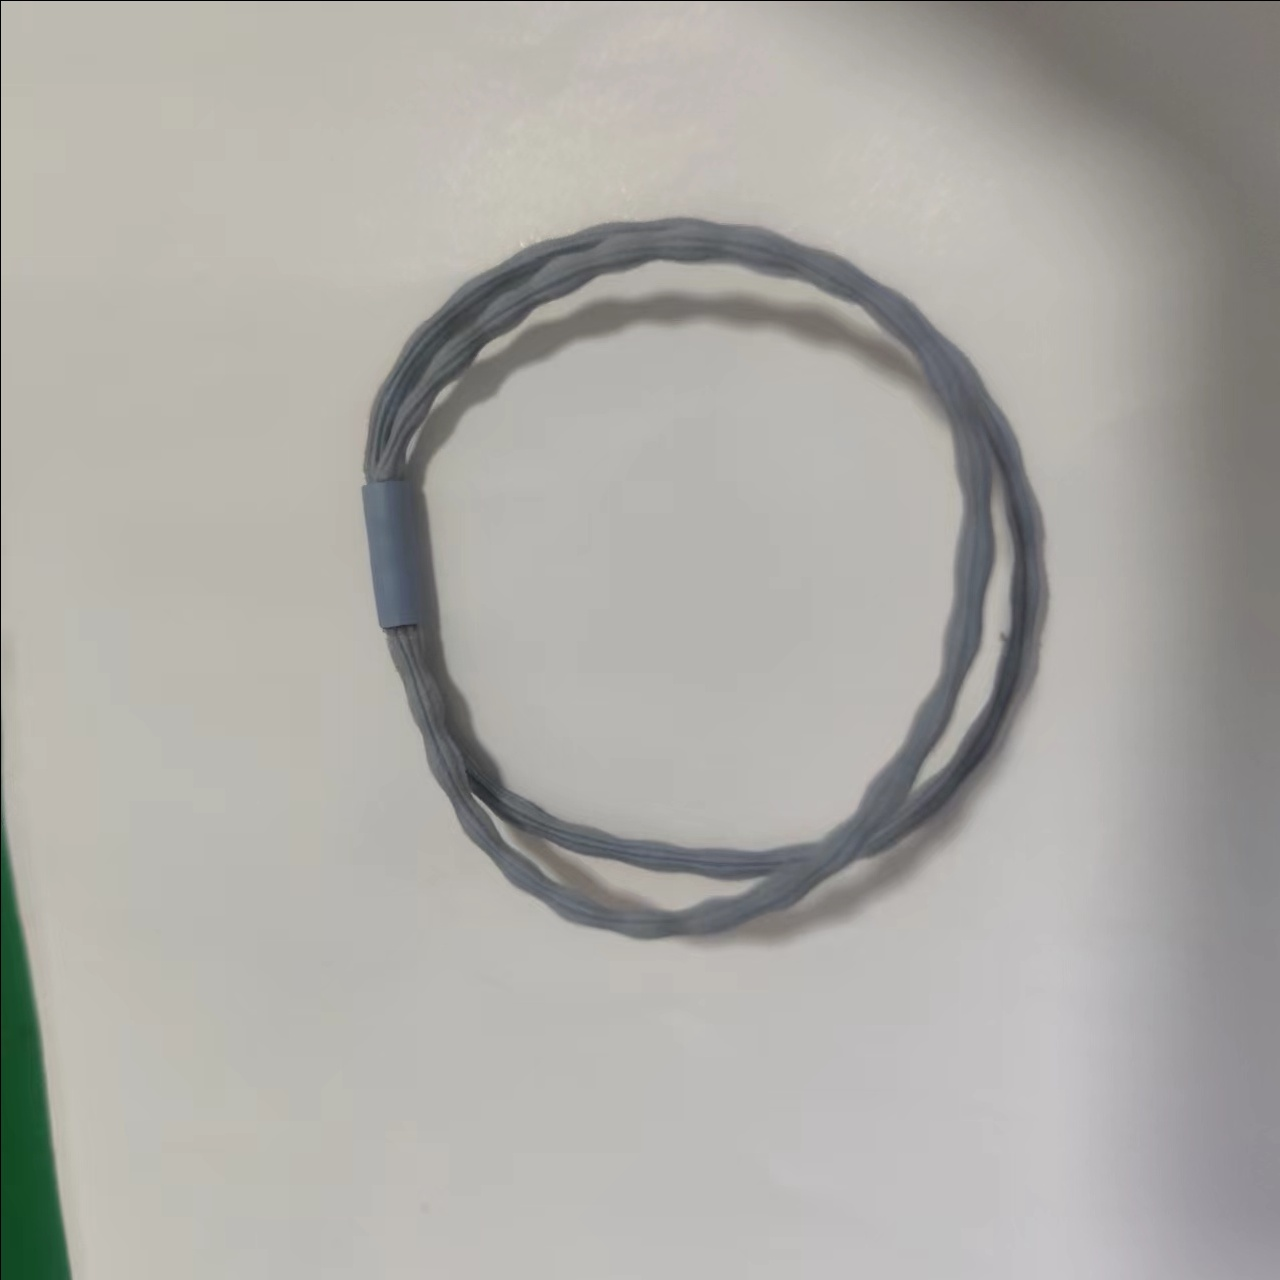9/可回收垃圾/绳子: (360, 217, 1047, 940)
